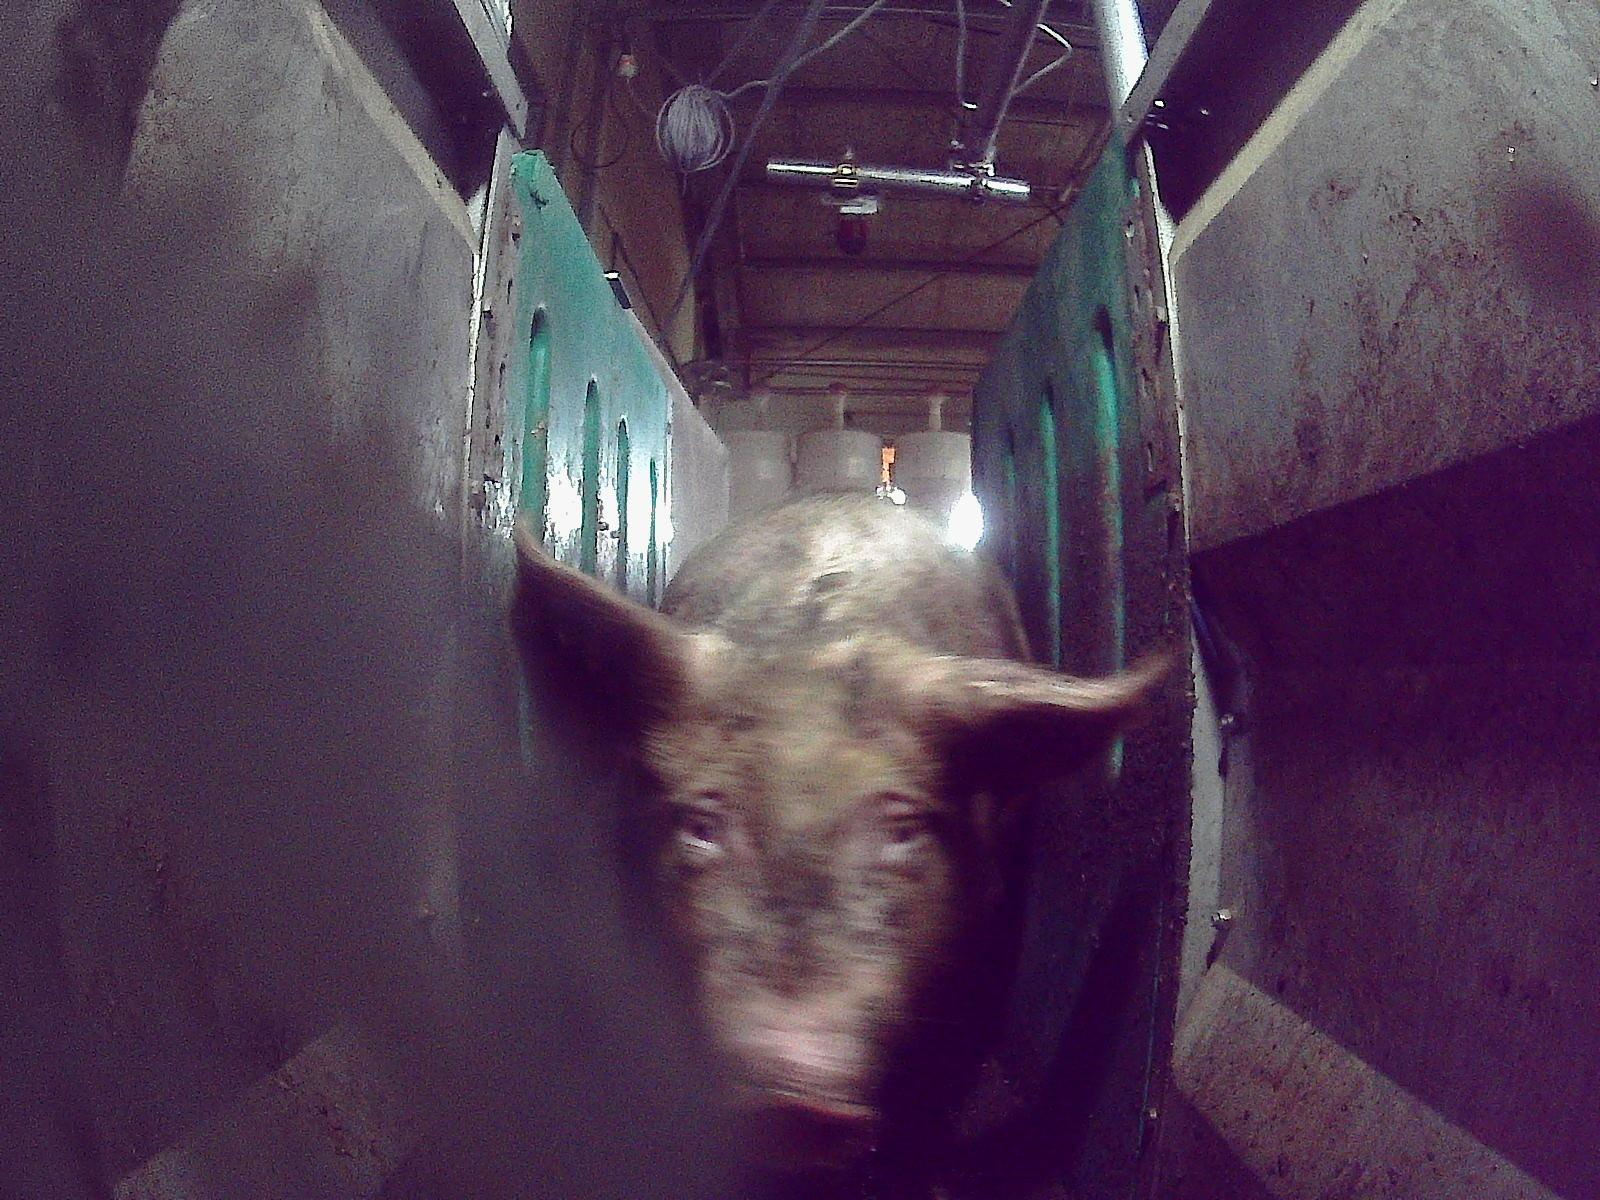Face: (644, 648, 963, 1175)
